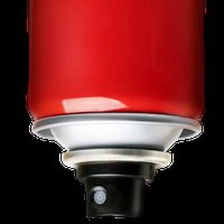aerosol_cans: (19, 1, 215, 223)
